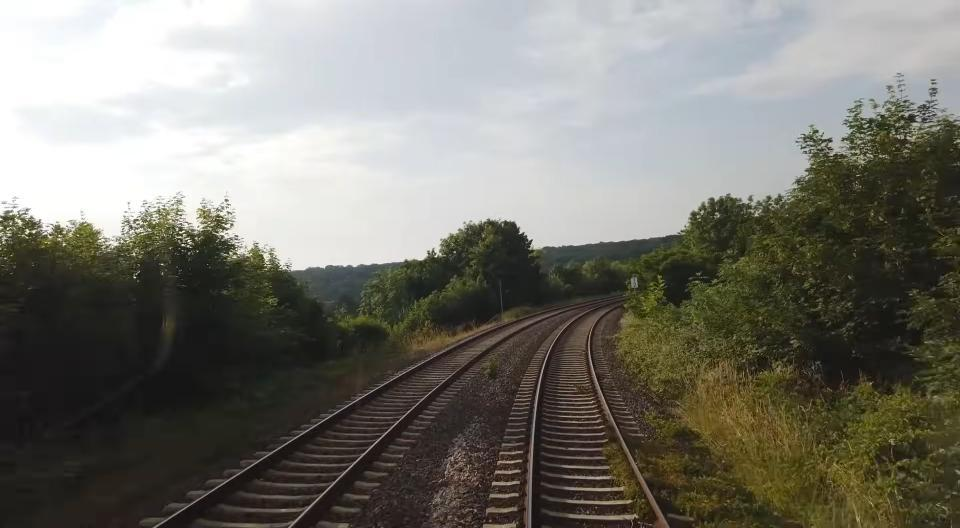Plant: (618, 304, 901, 528), (604, 438, 650, 521), (486, 359, 499, 378), (574, 383, 591, 395)
